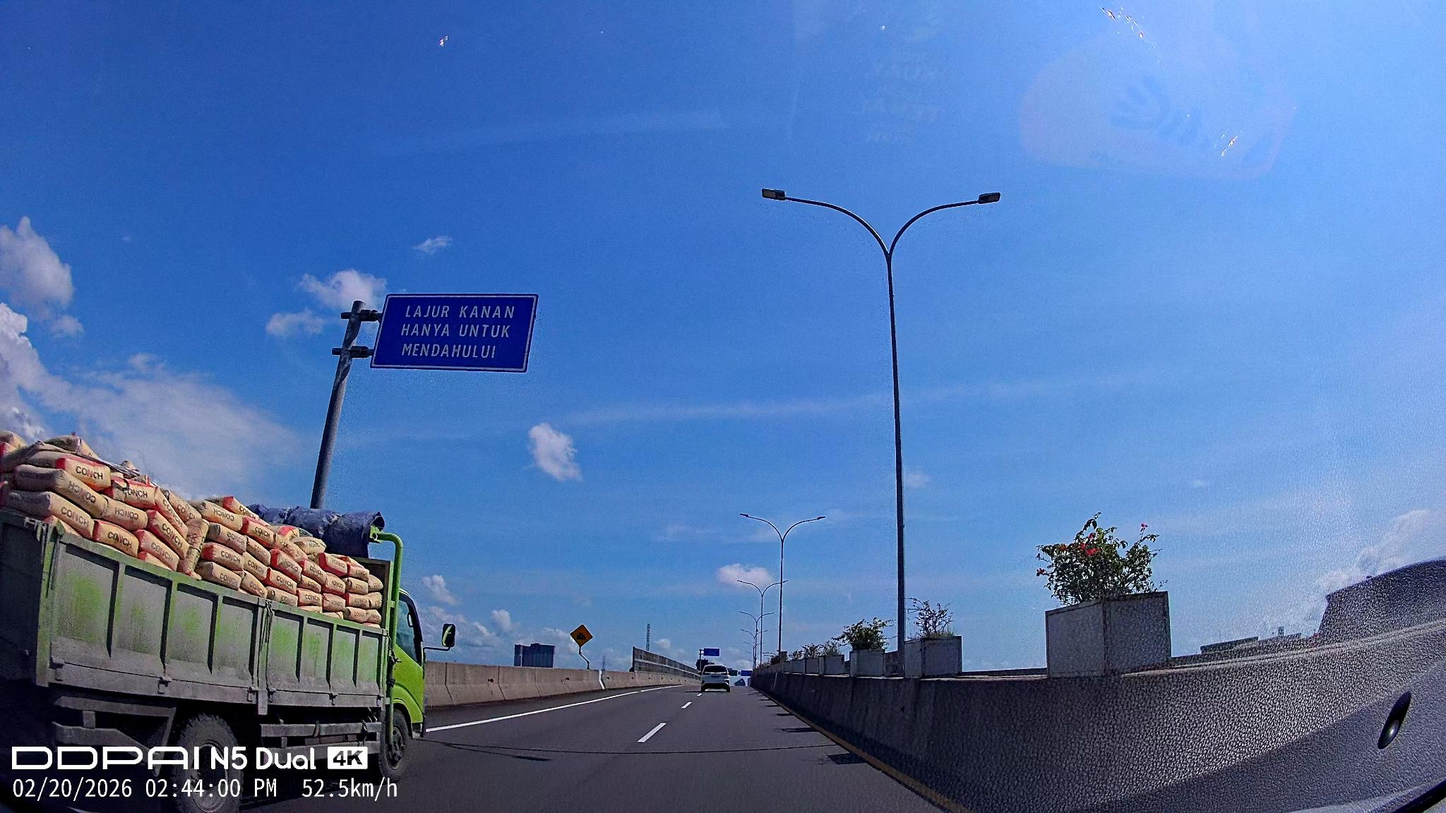rambu_teks: (370, 292, 539, 373)
